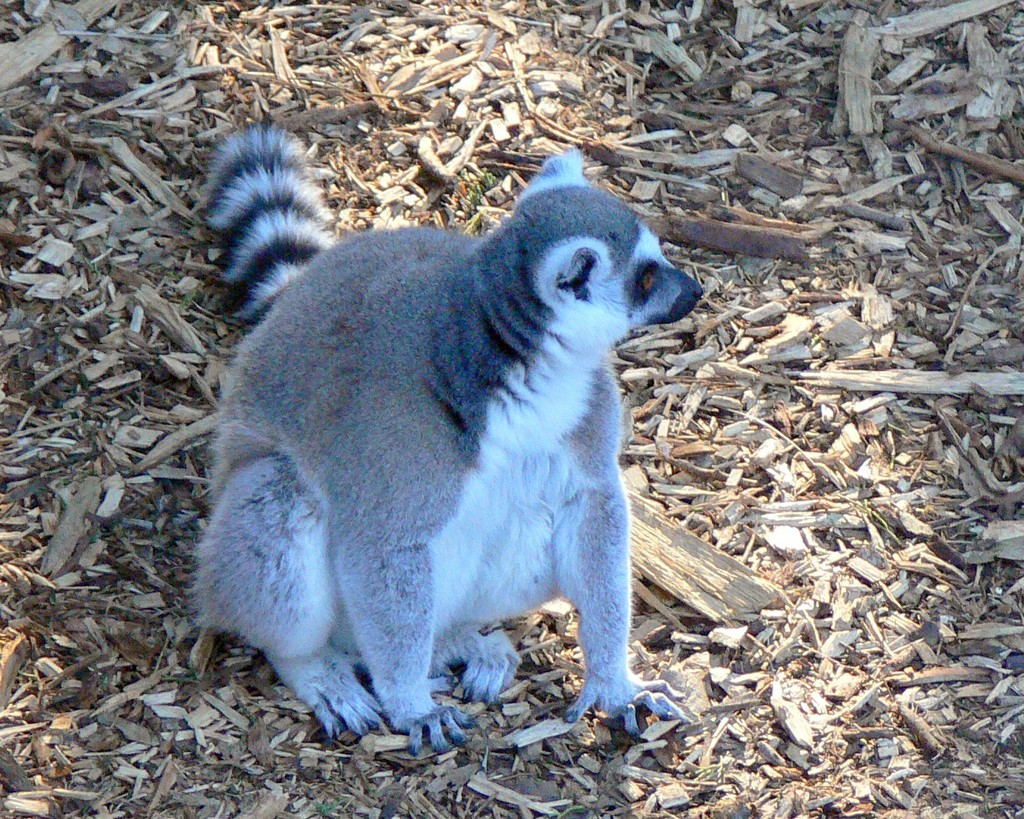Animal: (197, 113, 691, 756)
